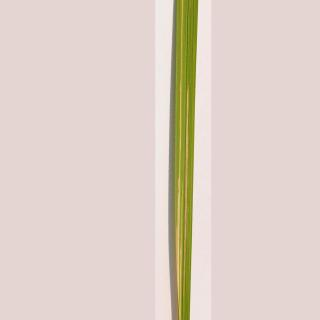Hawar-Daun: (164, 1, 207, 320)
